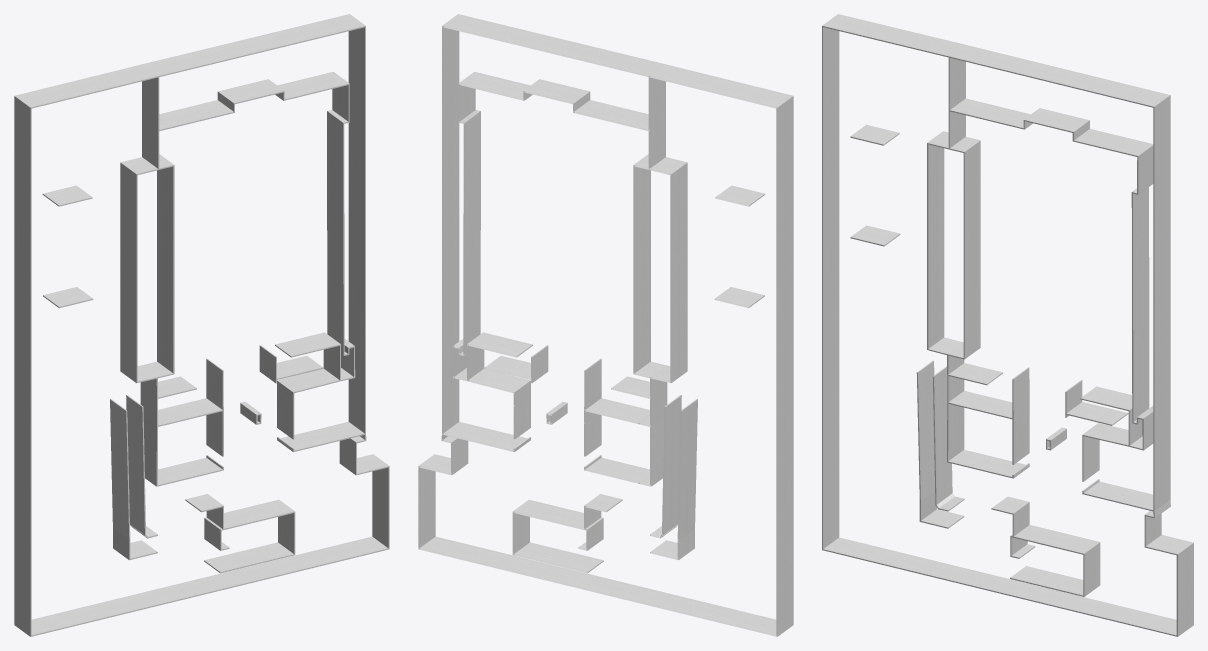
Rendered from wall_1.obj.
3 views of the same model, side by side, from view 1: azimuth 30°, elevation 25°; view 2: azimuth 150°, elevation 25°; view 3: azimuth 330°, elevation 25° (orthographic).
Visible parts, largest first — view 1: walls; view 2: walls; view 3: walls.
Part boxes in pixels (left/top/right/bottom): walls: left=14, top=14, right=389, bottom=636; walls: left=418, top=14, right=793, bottom=636; walls: left=822, top=14, right=1193, bottom=636.
Size of the model in its own units: 31.89 by 44.93 by 2.5.
